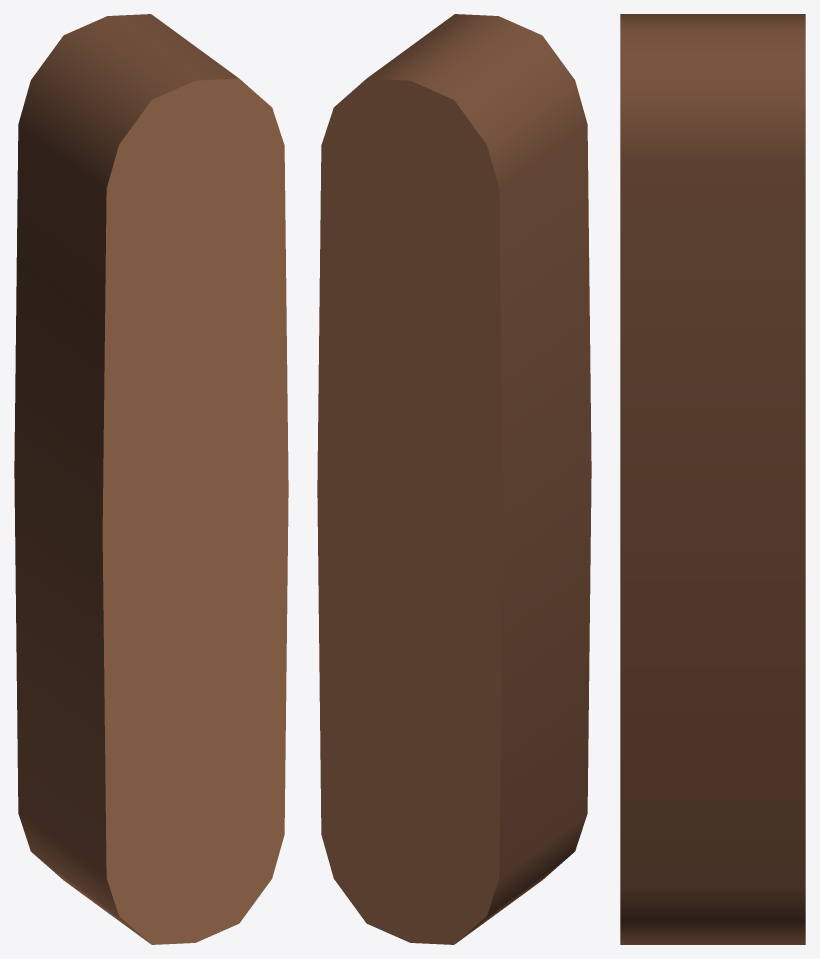
3 views of the same model, side by side, from view 1: azimuth 30°, elevation 25°; view 2: azimuth 150°, elevation 25°; view 3: azimuth 270°, elevation 25° (orthographic). The views are drawn at different scales.
Parts seen in each view (by area): view 1: Text_I; view 2: Text_I; view 3: Text_I.
Boxes of the visible parts, left/top/right/bottom form: Text_I: left=14, top=14, right=288, bottom=944; Text_I: left=317, top=14, right=591, bottom=944; Text_I: left=620, top=14, right=805, bottom=944.
Bounding box in the file's own units: 8.16 × 36.14 × 6.7.
